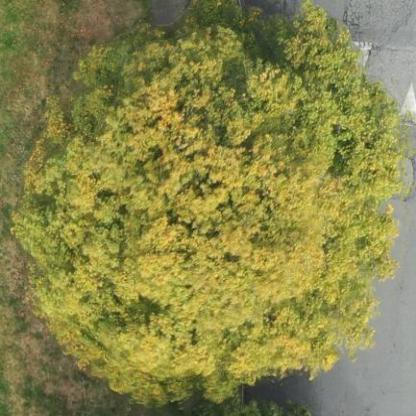Deciduous Tree: (10, 14, 416, 402)
